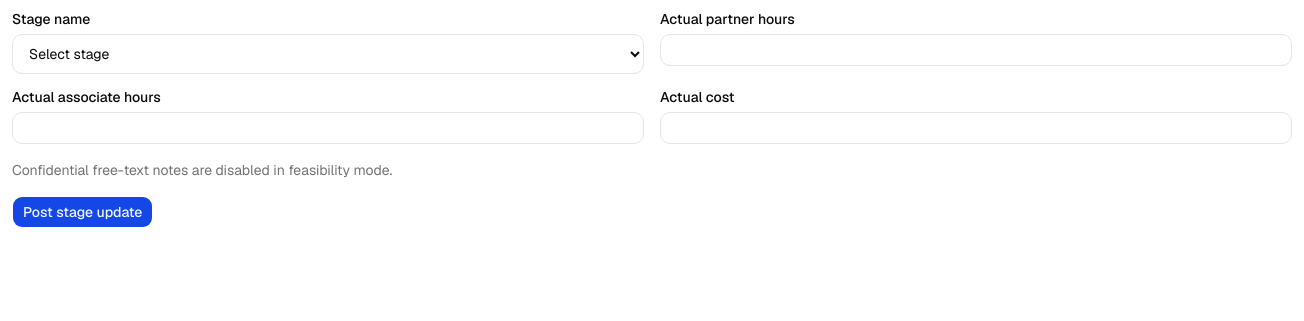
Scenario: scope monitoring dashboard › posts structured updates to the scope monitoring endpoint
Select "Case Assessment" in the dropdown labelled "Stage name" at (328, 54), box [12, 34, 644, 74]
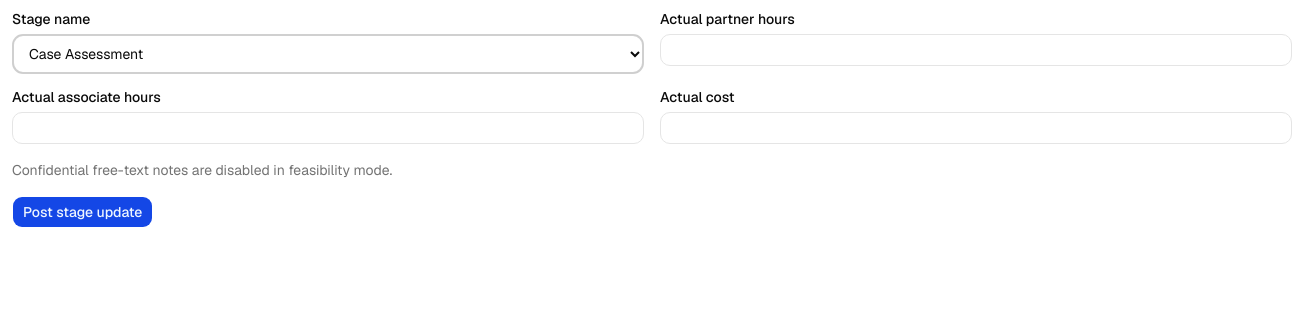
Type "35" into the number field labelled "Actual partner hours".
click(976, 50); type("35")  # box [660, 34, 1292, 66]
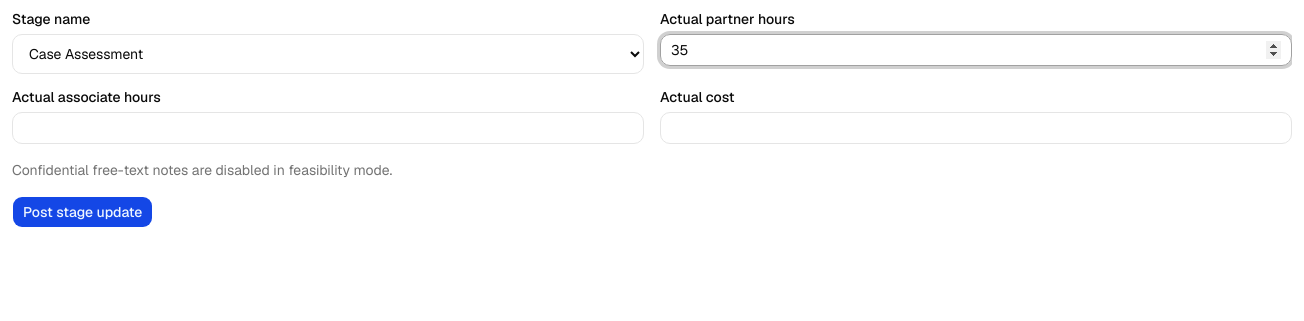
Type "60" into the number field labelled "Actual associate hours".
click(328, 128); type("60")  # box [12, 112, 644, 144]
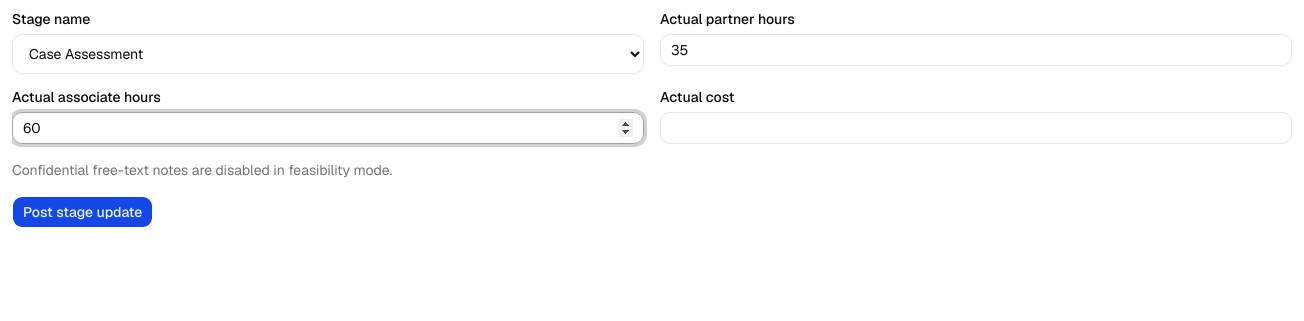
Type "130000" into the number field labelled "Actual cost".
click(976, 128); type("130000")  # box [660, 112, 1292, 144]
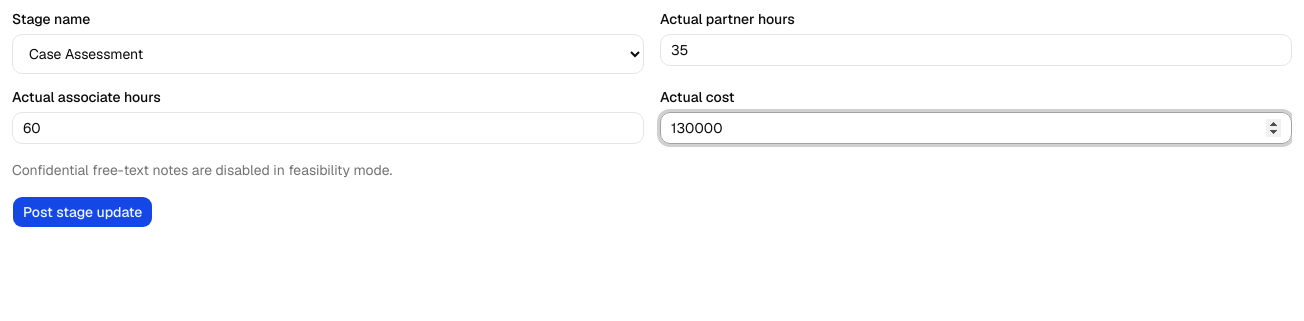
Click the button "Post stage update".
click(83, 212)  # box [12, 196, 153, 228]
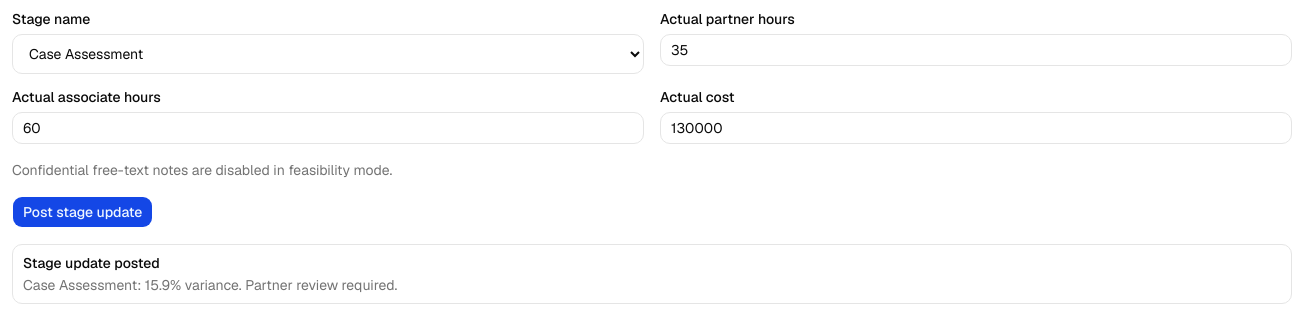
Expected: the text "Case Assessment: 15.9% variance. Partner review required." is shown, [23, 276, 397, 294]
